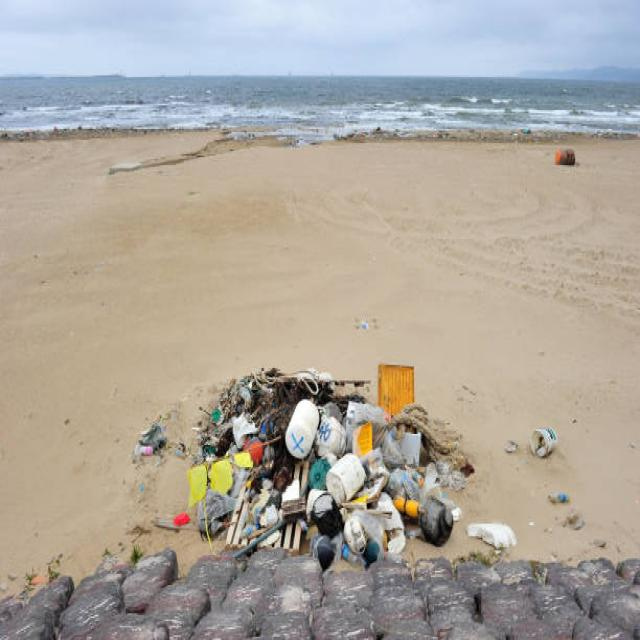plastic: (158, 357, 487, 546)
